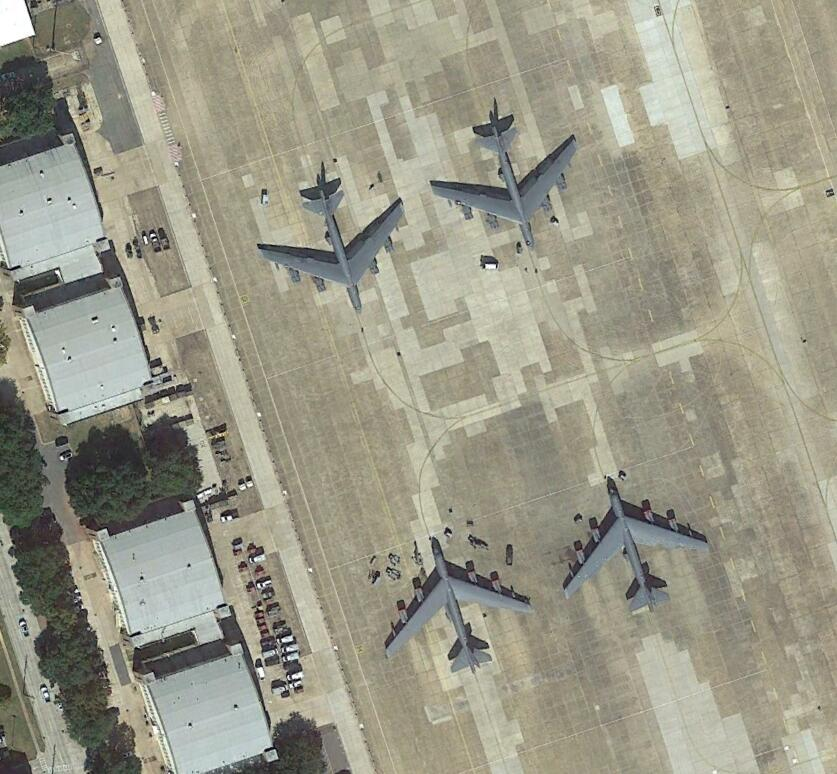A8: (378, 536, 537, 682), (559, 473, 715, 618), (252, 176, 409, 316), (423, 121, 583, 249)
